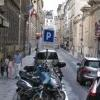Motorcycle: (14, 60, 76, 100)
